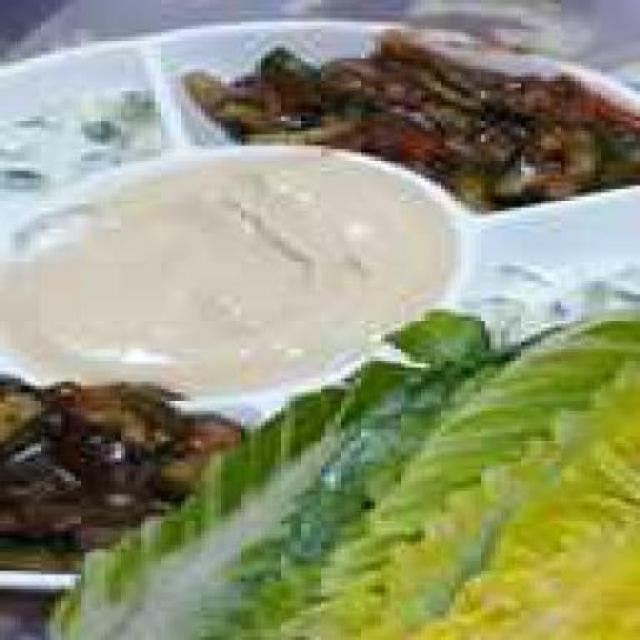eggplant: (175, 29, 634, 197)
hummus: (5, 160, 450, 374)
